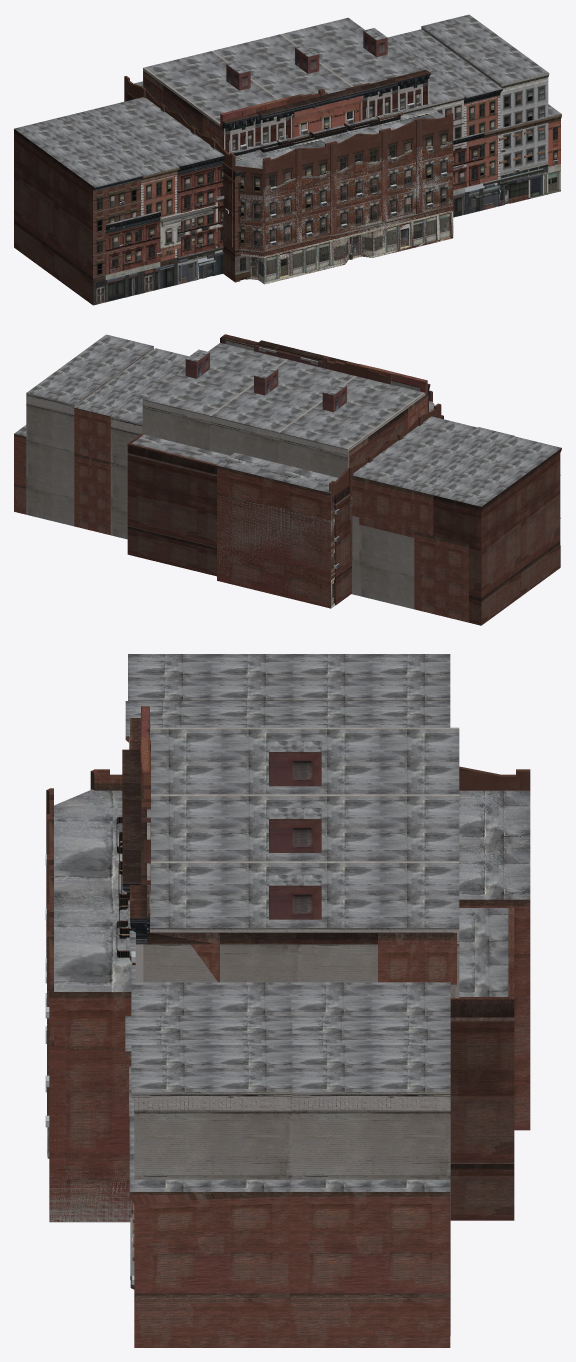
The model's file is bld_brown.glb.
The picture shows the model from 3 angles, top to bottom: view 1: azimuth 30°, elevation 25°; view 2: azimuth 150°, elevation 25°; view 3: azimuth 270°, elevation 25°; orthographic projection. The views are drawn at different scales.
Parts seen in each view (by area): view 1: brown_23, brown_24, brown_28, brown_27, brown_20, brown_29, brown_15, brown_06, brown_26, brown_13, brown_11; view 2: brown_24, brown_23, brown_20, brown_28, brown_26, brown_27, brown_29, brown_06, brown_25, brown_15, brown_14, brown_11; view 3: brown_23, brown_20, brown_24, brown_28, brown_26, brown_27, brown_06, brown_15, brown_29, brown_11.
Part boxes in pixels (<box>): brown_23: <box>14,97,561,305</box>; brown_24: <box>105,14,549,301</box>; brown_28: <box>124,76,453,283</box>; brown_27: <box>225,141,453,284</box>; brown_20: <box>143,17,429,152</box>; brown_29: <box>225,141,453,281</box>; brown_15: <box>144,70,430,152</box>; brown_06: <box>143,28,425,147</box>; brown_26: <box>127,93,352,282</box>; brown_13: <box>292,96,362,137</box>; brown_11: <box>256,78,398,132</box>; brown_24: <box>26,334,468,622</box>; brown_23: <box>14,416,561,625</box>; brown_20: <box>142,342,425,477</box>; brown_28: <box>217,390,441,608</box>; brown_26: <box>127,415,443,605</box>; brown_27: <box>217,492,339,608</box>; brown_29: <box>217,496,351,606</box>; brown_06: <box>185,337,427,467</box>; brown_25: <box>197,461,216,576</box>; brown_15: <box>221,334,430,466</box>; brown_14: <box>254,344,391,384</box>; brown_11: <box>256,340,358,364</box>; brown_23: <box>125,654,450,1347</box>; brown_20: <box>116,727,459,997</box>; brown_24: <box>125,927,450,1335</box>; brown_28: <box>45,766,530,1221</box>; brown_26: <box>450,908,514,1220</box>; brown_27: <box>45,844,530,1221</box>; brown_06: <box>119,706,456,984</box>; brown_15: <box>130,718,453,944</box>; brown_29: <box>45,880,131,1222</box>; brown_11: <box>122,749,141,894</box>.
Size of the model in its own units: 68.28 by 22.77 by 30.68.
Materials: 10 (10 with a texture image).
